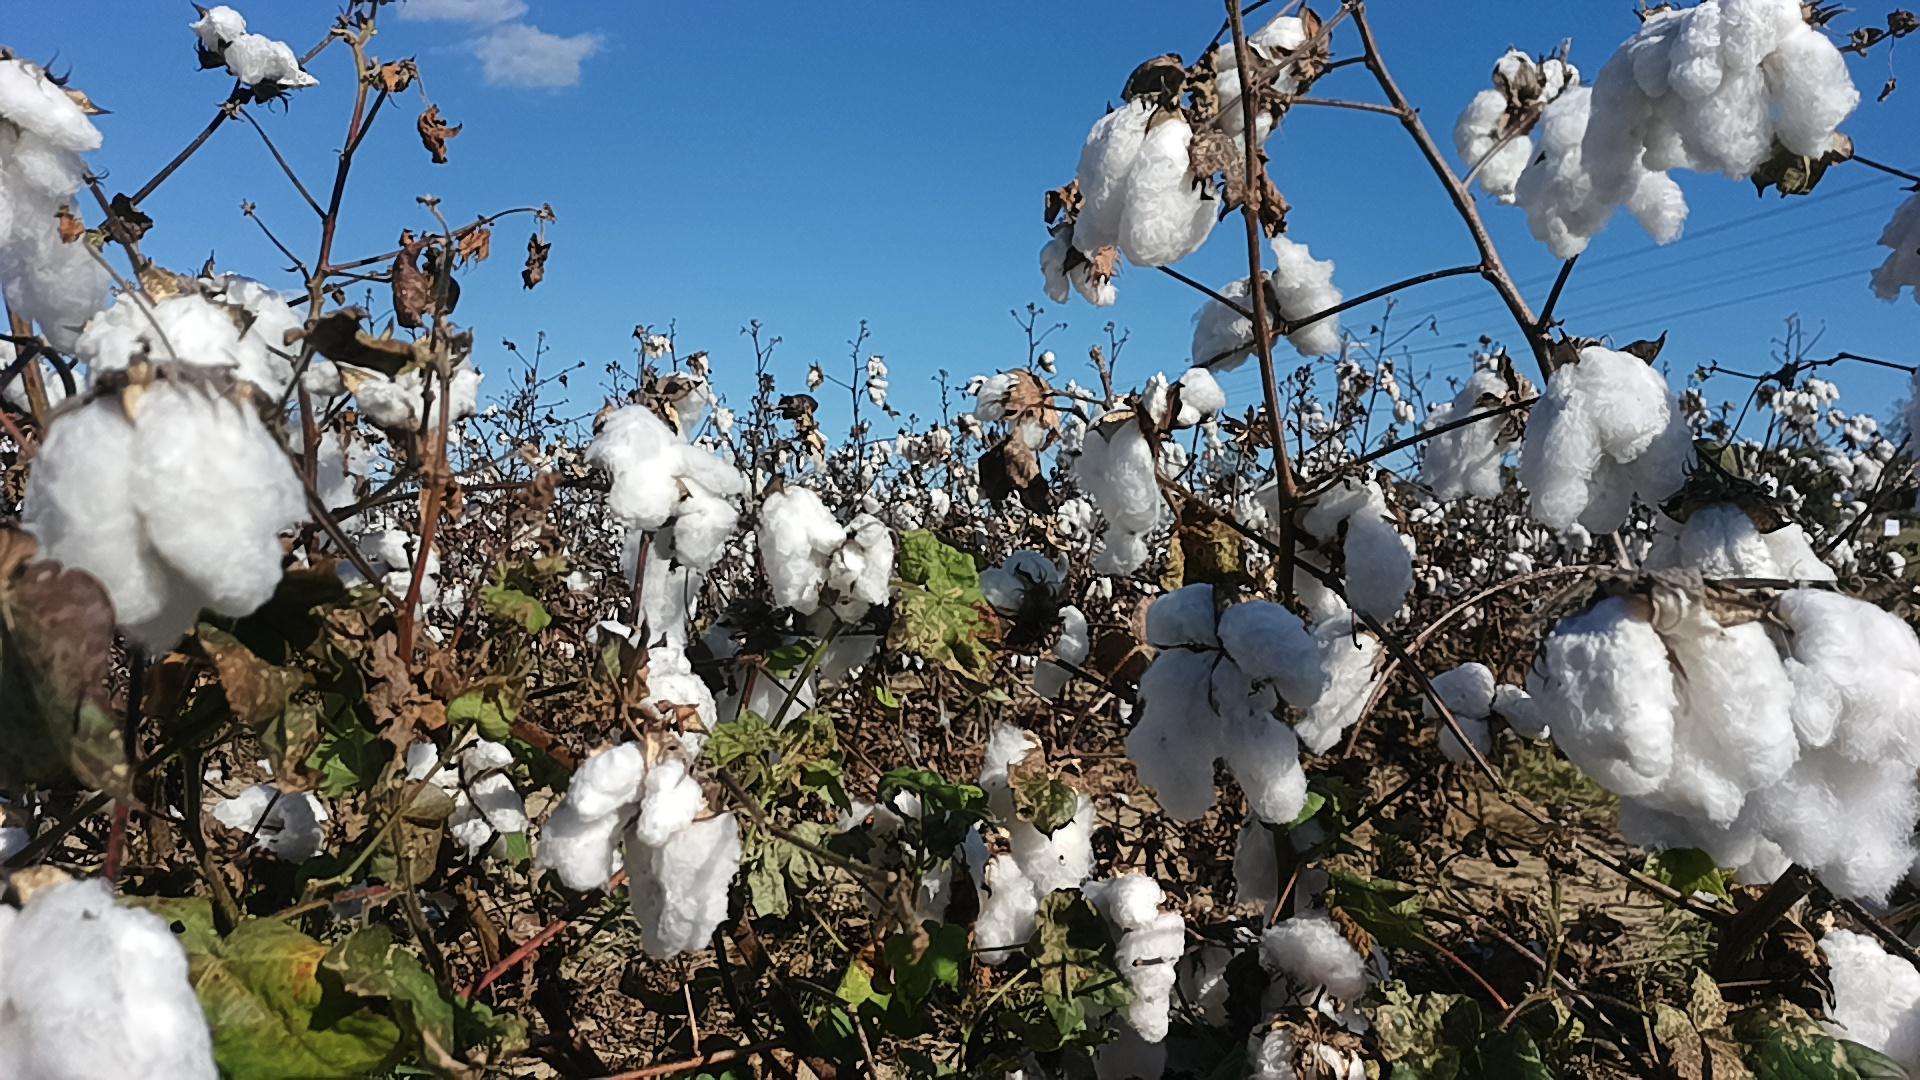cotton_ready: (1528, 583, 1920, 907), (24, 390, 313, 659), (1585, 0, 1861, 202), (1130, 585, 1325, 820), (543, 745, 748, 963), (0, 884, 225, 1080), (1097, 918, 1367, 1080), (1519, 343, 1688, 533), (1518, 88, 1689, 260), (1077, 94, 1221, 272), (597, 406, 746, 568), (0, 58, 108, 276), (558, 618, 717, 757), (973, 545, 1096, 705), (1461, 50, 1585, 203), (78, 290, 268, 388), (1290, 477, 1418, 611), (402, 733, 527, 865), (190, 756, 328, 870), (1639, 508, 1838, 585), (1813, 935, 1920, 1072), (1294, 600, 1383, 757), (1101, 876, 1185, 1040), (742, 621, 878, 721), (1422, 666, 1548, 771), (758, 480, 851, 613), (5, 233, 105, 353), (1418, 373, 1507, 501), (968, 825, 1046, 963), (1081, 415, 1160, 543), (252, 295, 343, 405), (338, 360, 485, 427), (1011, 790, 1101, 899), (198, 8, 318, 86), (1267, 236, 1342, 355), (620, 526, 708, 626), (1042, 215, 1121, 306), (1254, 1023, 1373, 1080), (976, 371, 1058, 448), (1191, 281, 1259, 373), (1213, 44, 1274, 141), (828, 793, 928, 851), (833, 513, 895, 607), (1250, 16, 1317, 95), (980, 717, 1038, 808), (276, 418, 345, 491), (1120, 376, 1204, 423), (0, 803, 36, 858)
